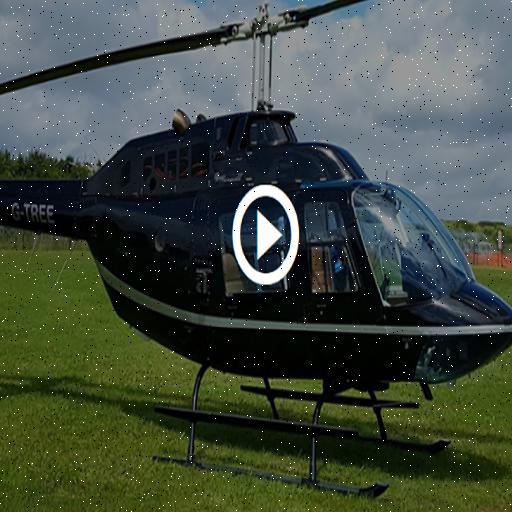helicopter: (4, 1, 512, 502)
